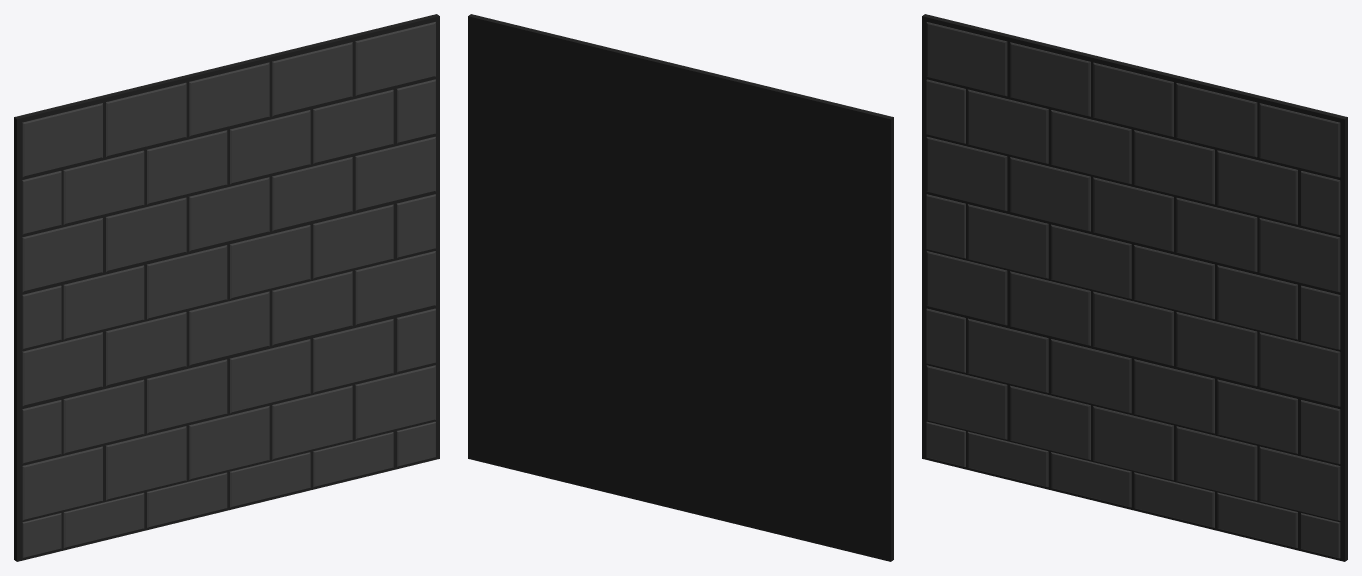
File: Wall_1.fbx
3 renders of one model, left to right at view 1: azimuth 30°, elevation 25°; view 2: azimuth 150°, elevation 25°; view 3: azimuth 330°, elevation 25°, orthographic.
Visible parts, largest first — view 1: Plane; view 2: Plane; view 3: Plane.
Boxes of the visible parts, x1,y1,x2,y2 form: Plane: (14,14,439,561); Plane: (468,14,893,561); Plane: (922,14,1347,561).
Bounding box in the file's own units: 400 × 400 × 6.41.
Materials: 1 (1 with a texture image).
